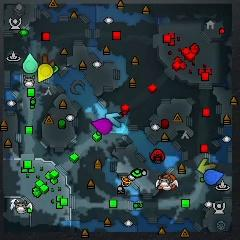p1: (204, 169, 223, 185)
p2: (23, 53, 37, 74)
p3: (91, 118, 112, 134)
p4: (37, 63, 53, 83)
p5: (158, 173, 178, 189)
x2: (197, 158, 216, 174)
x3: (105, 112, 121, 127)
x5: (42, 54, 55, 66)
